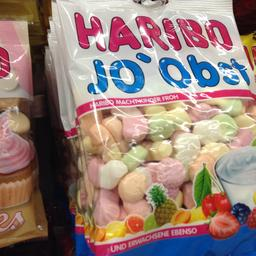candy: (58, 0, 252, 250)
